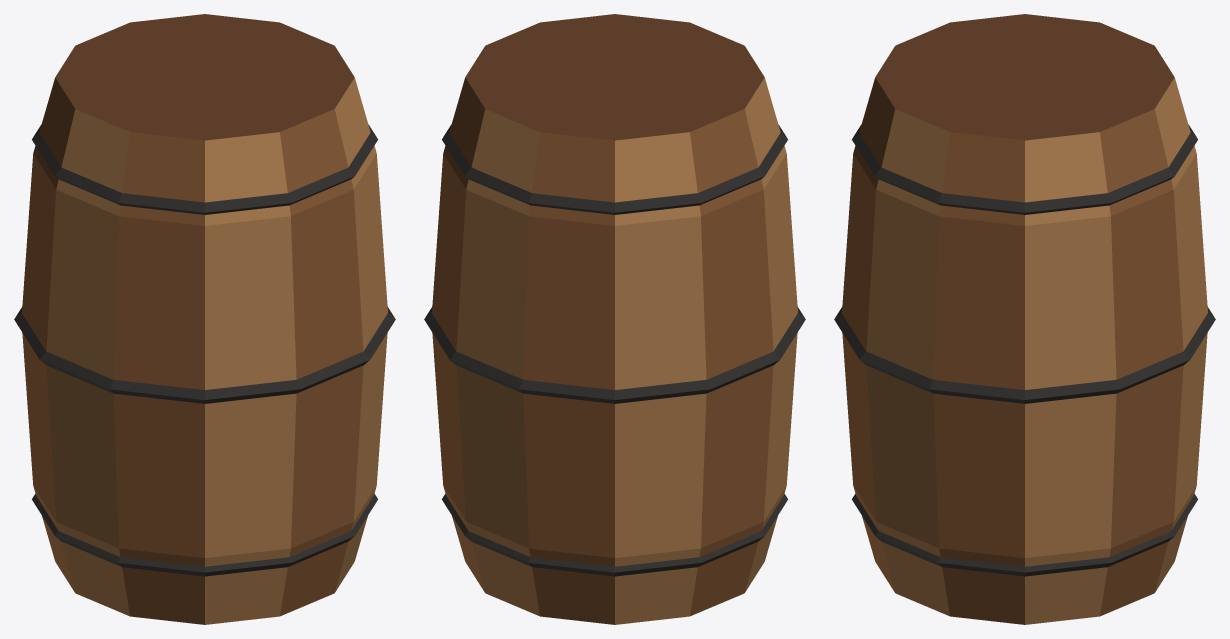
File: Barrel.fbx
3 renders of one model, left to right at view 1: azimuth 30°, elevation 25°; view 2: azimuth 150°, elevation 25°; view 3: azimuth 270°, elevation 25°, orthographic.
Visible parts, largest first — view 1: Barrel; view 2: Barrel; view 3: Barrel.
Part boxes in pixels (<box>): Barrel: <box>14,14,395,624</box>; Barrel: <box>424,14,805,624</box>; Barrel: <box>834,14,1215,624</box>.
Bounding box in the file's own units: 2.5 × 3.5 × 2.5.
1 material, 1 textured.
